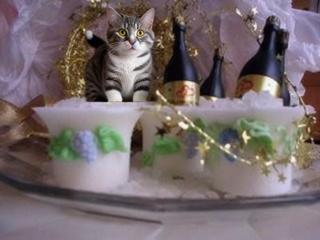bottle: (236, 15, 285, 100), (162, 15, 202, 107), (202, 46, 228, 101), (282, 30, 291, 107)
cat: (85, 8, 156, 101)
